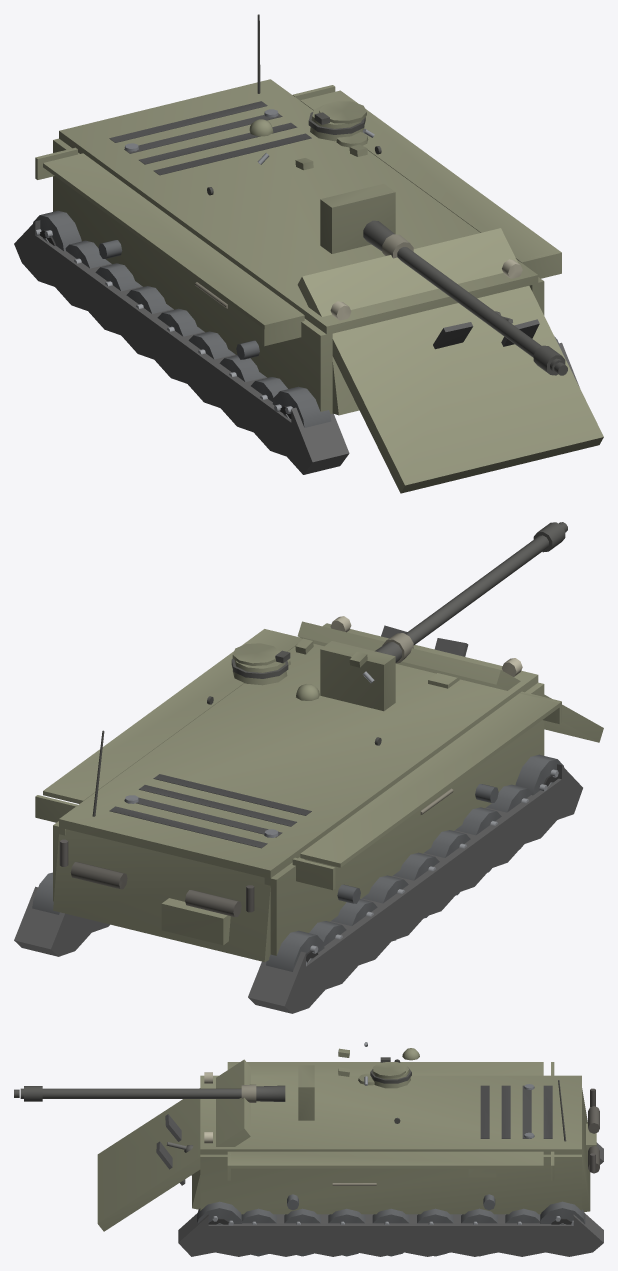
3 renders of one model, top to bottom at view 1: azimuth 30°, elevation 25°; view 2: azimuth 150°, elevation 25°; view 3: azimuth 270°, elevation 25°, orthographic. The views are drawn at different scales.
Parts seen in each view (by area): view 1: hullTop, glacis, hullSide, tracks, barrel, mantlet, turretRoof, wheel7, wheel8, lowerPlate, wheel4, wheel1 (+4 smaller); view 2: hullTop, hullSide, tracks, hullRear, glacis, mantlet, barrel, turretRoof, wheel8, wheel7, wheel4, wheel5 (+4 smaller); view 3: hullSide, hullTop, tracks, glacis, barrel, hullRear, turretRoof, mantlet, wheel16, wheel17, wheel13, wheel14 (+6 smaller).
Boxes of the visible parts, <box> form: hullTop: <box>59,79,538,334</box>; glacis: <box>297,228,603,493</box>; hullSide: <box>35,85,561,414</box>; tracks: <box>14,220,579,474</box>; barrel: <box>363,220,567,375</box>; mantlet: <box>320,184,395,253</box>; turretRoof: <box>249,101,374,170</box>; wheel7: <box>272,386,331,427</box>; wheel8: <box>33,210,81,251</box>; lowerPlate: <box>332,356,359,415</box>; wheel4: <box>188,331,234,359</box>; wheel1: <box>95,263,141,291</box>; hullTop: <box>59,623,538,878</box>; hullSide: <box>35,616,561,955</box>; tracks: <box>14,764,582,1013</box>; hullRear: <box>53,730,270,961</box>; glacis: <box>297,621,603,742</box>; mantlet: <box>320,641,395,711</box>; barrel: <box>375,522,567,663</box>; turretRoof: <box>231,638,374,700</box>; wheel8: <box>266,930,324,971</box>; wheel7: <box>515,754,564,795</box>; wheel4: <box>424,830,470,895</box>; wheel5: <box>455,807,501,872</box>; hullSide: <box>200,1062,581,1214</box>; hullTop: <box>200,1075,581,1154</box>; tracks: <box>178,1142,603,1256</box>; glacis: <box>97,1059,250,1231</box>; barrel: <box>14,1084,285,1102</box>; hullRear: <box>558,1080,599,1212</box>; turretRoof: <box>338,1042,419,1088</box>; mantlet: <box>298,1065,314,1120</box>; wheel16: <box>197,1201,242,1225</box>; wheel17: <box>540,1201,585,1225</box>; wheel13: <box>328,1208,365,1256</box>; wheel14: <box>284,1208,320,1256</box>.
Size of the model in its own units: 4.43 by 3.19 by 10.67.
